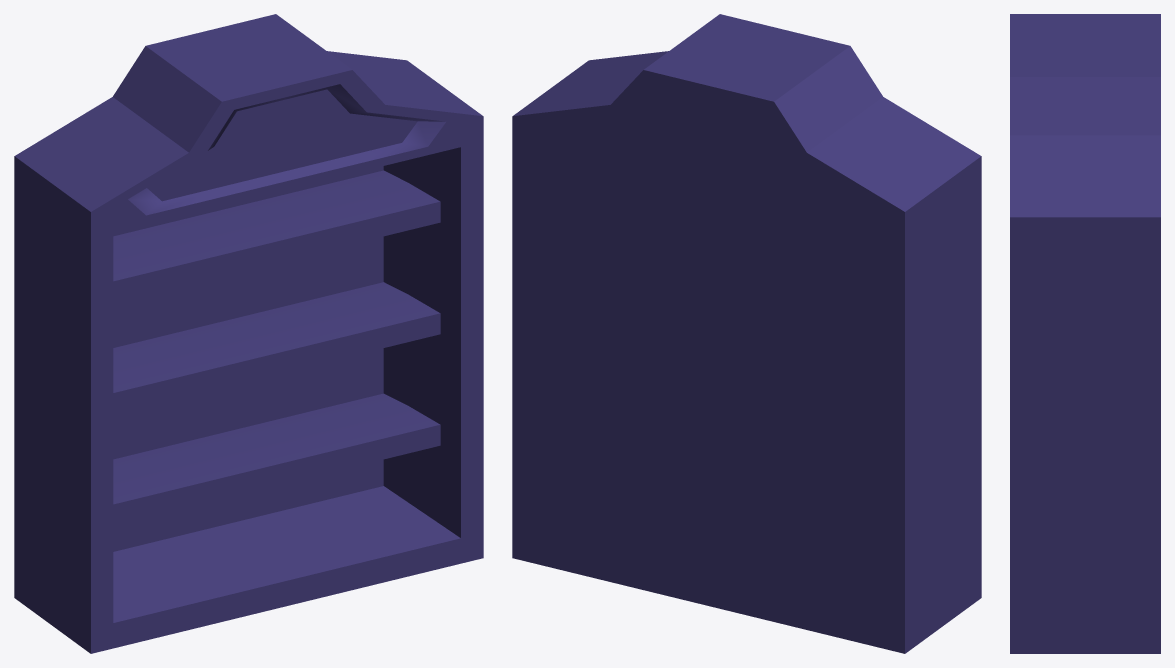
Rendered from SM_Library_Bookshelf_A.fbx.
3 renders of one model, left to right at view 1: azimuth 30°, elevation 25°; view 2: azimuth 150°, elevation 25°; view 3: azimuth 270°, elevation 25°, orthographic.
Visible parts, largest first — view 1: SM_Library_Bookshelf_A; view 2: SM_Library_Bookshelf_A; view 3: SM_Library_Bookshelf_A.
Boxes of the visible parts, x1,y1,x2,y2 form: SM_Library_Bookshelf_A: (14,14,483,653); SM_Library_Bookshelf_A: (512,14,981,653); SM_Library_Bookshelf_A: (1010,14,1160,653).
Size of the model in its own units: 288 by 365 by 97.15.
